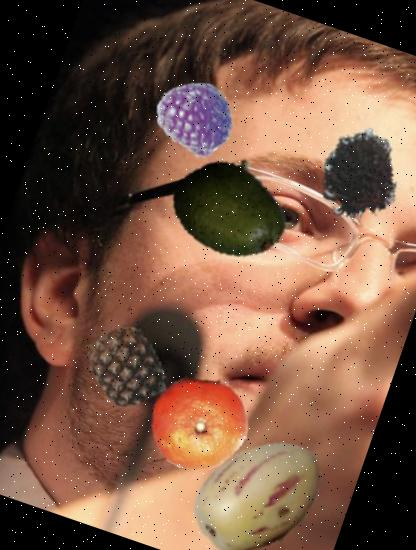Avocado: (157, 132, 308, 282)
Clementine: (136, 358, 264, 486)
Pepino: (172, 411, 345, 550)
Pineapple: (75, 315, 177, 417)
Rambutan: (297, 112, 416, 238)
Raspberry: (146, 67, 244, 165)
